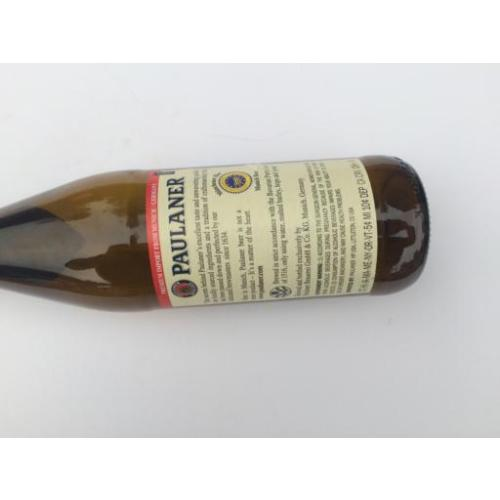glass: (0, 156, 430, 311)
